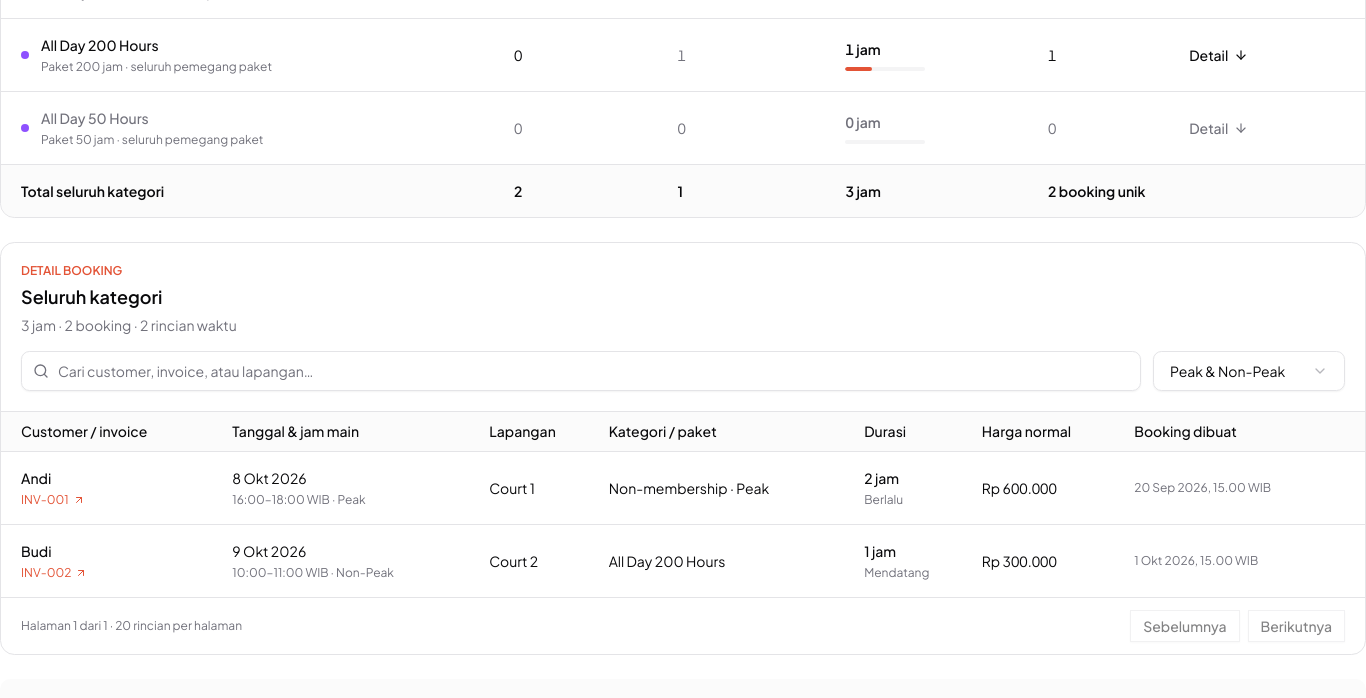
it: Court Performance UI › searches customer and filters band without changing summary totals
(page scrolled)
Check: the text "Andi" is shown, box top-left (21, 469), bottom-right (51, 487)
In the field labelled "Cari customer, invoice, atau lapangan": (581, 370) top-left (21, 350), bottom-right (1141, 390), type "Budi"
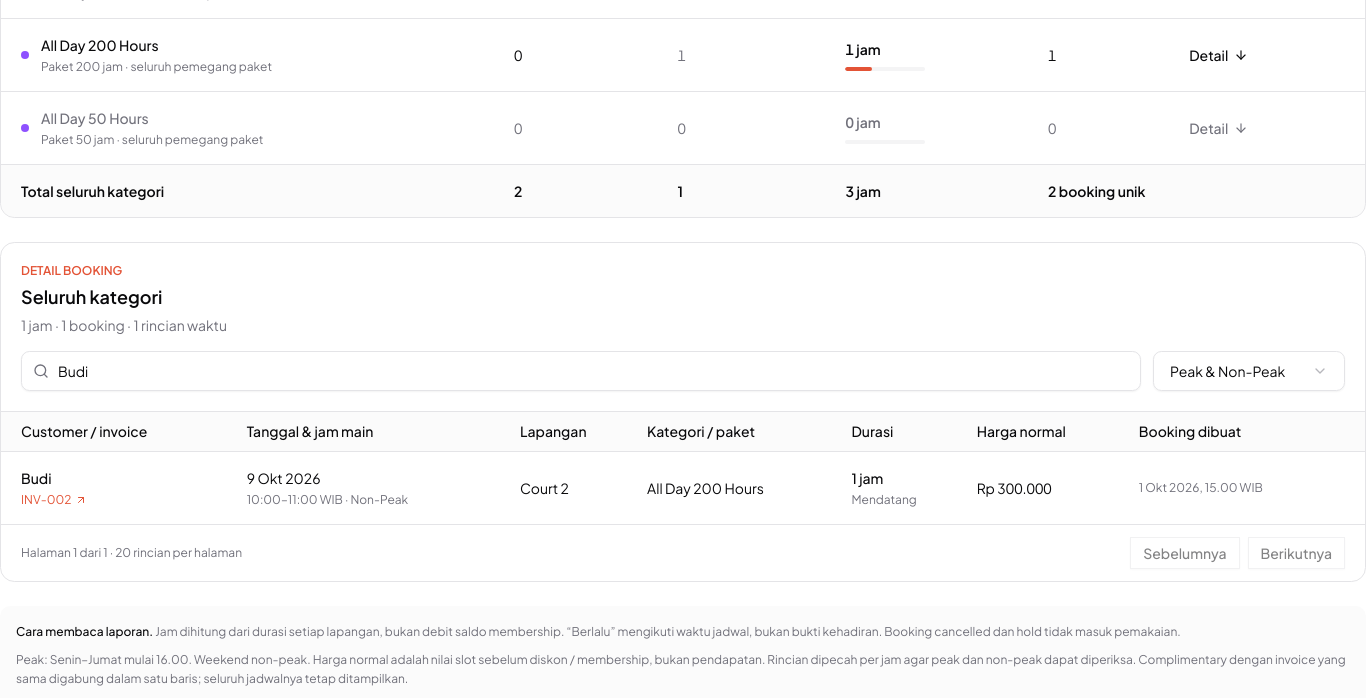
Check: the text "Budi" is shown, box top-left (21, 469), bottom-right (52, 487)
Check: the text "Andi" is gone
Press ArrowDown in the dropdown named "Filter peak dan non-peak", box top-left (1153, 350), bottom-right (1345, 390)
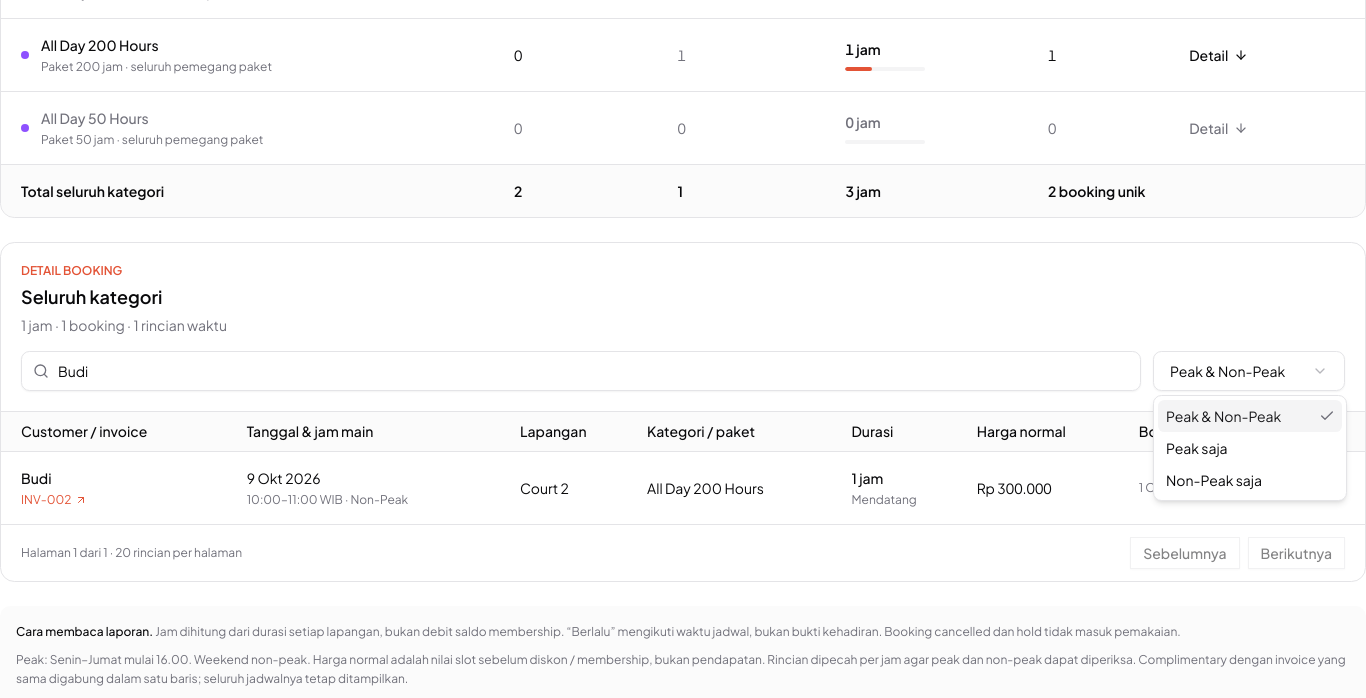
Click the option "Peak saja": (1197, 448) top-left (1166, 439), bottom-right (1228, 457)
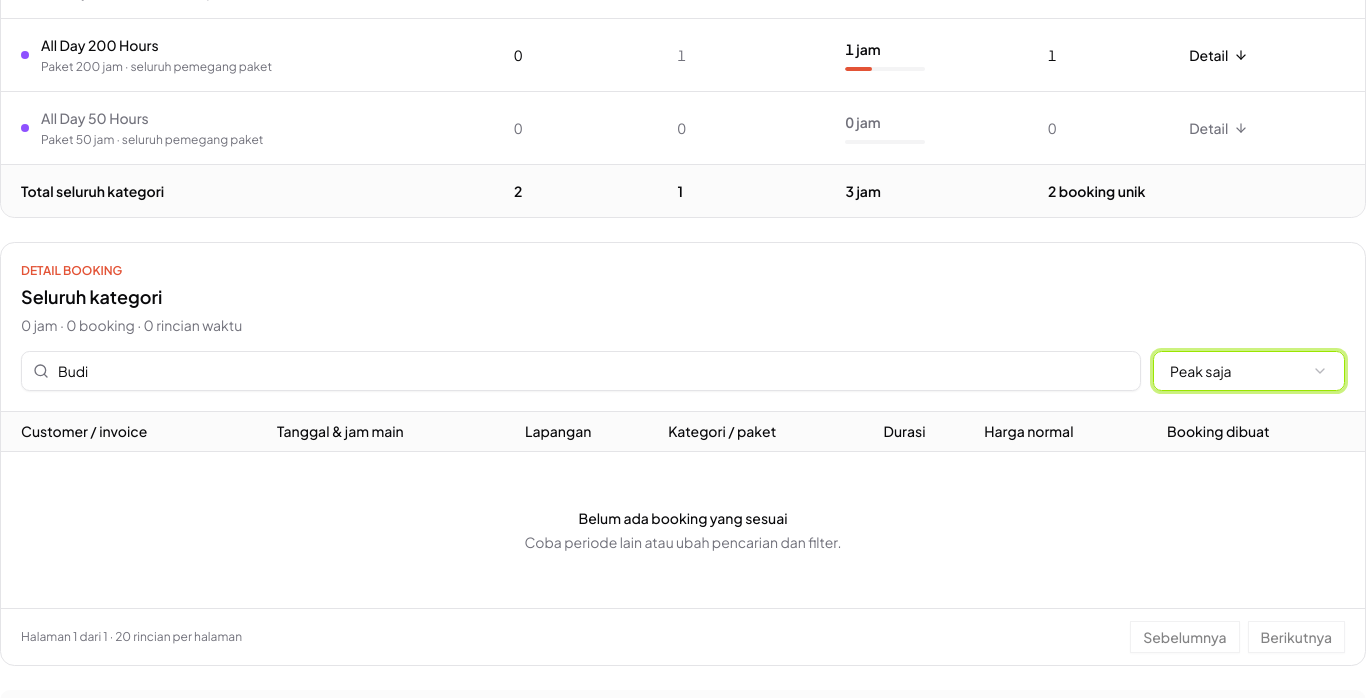
Check: the text "Total seluruh kategori" is shown, box top-left (1, 164), bottom-right (506, 216)
Check: the text "Belum ada booking yang sesuai" is shown, box top-left (578, 509), bottom-right (788, 527)
